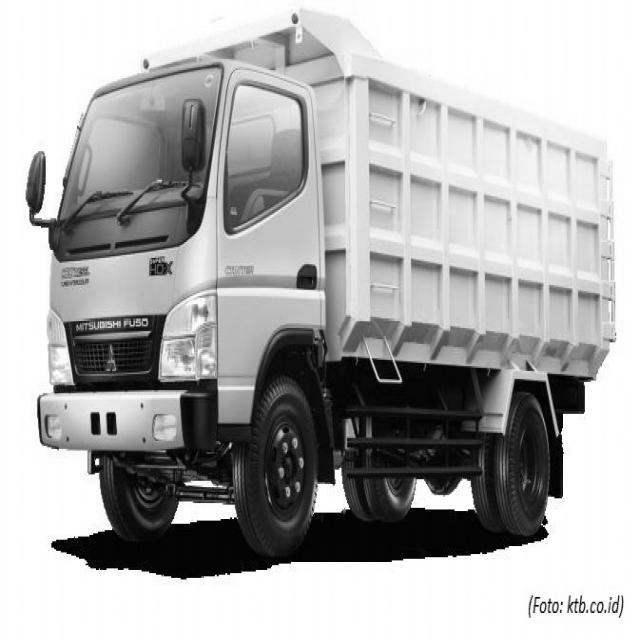truck: (14, 12, 349, 503)
